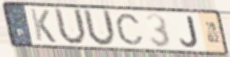3: (146, 11, 172, 50)
C: (114, 12, 145, 46)
J: (179, 15, 200, 49)
K: (28, 8, 58, 45)
U: (82, 8, 118, 49), (53, 7, 89, 47)
